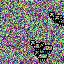sheep: (49, 12, 63, 23), (39, 42, 53, 53), (34, 50, 48, 61), (30, 40, 42, 51), (54, 15, 64, 26)
